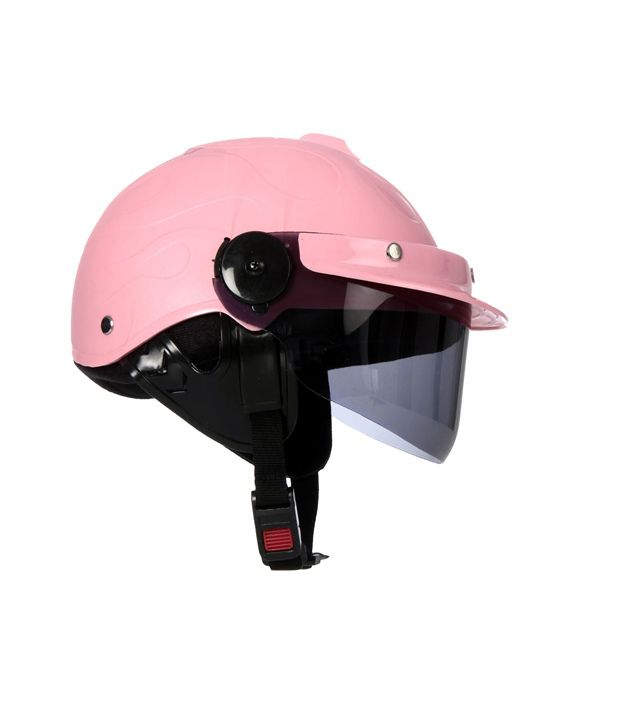with_helmet: (59, 131, 515, 483)
